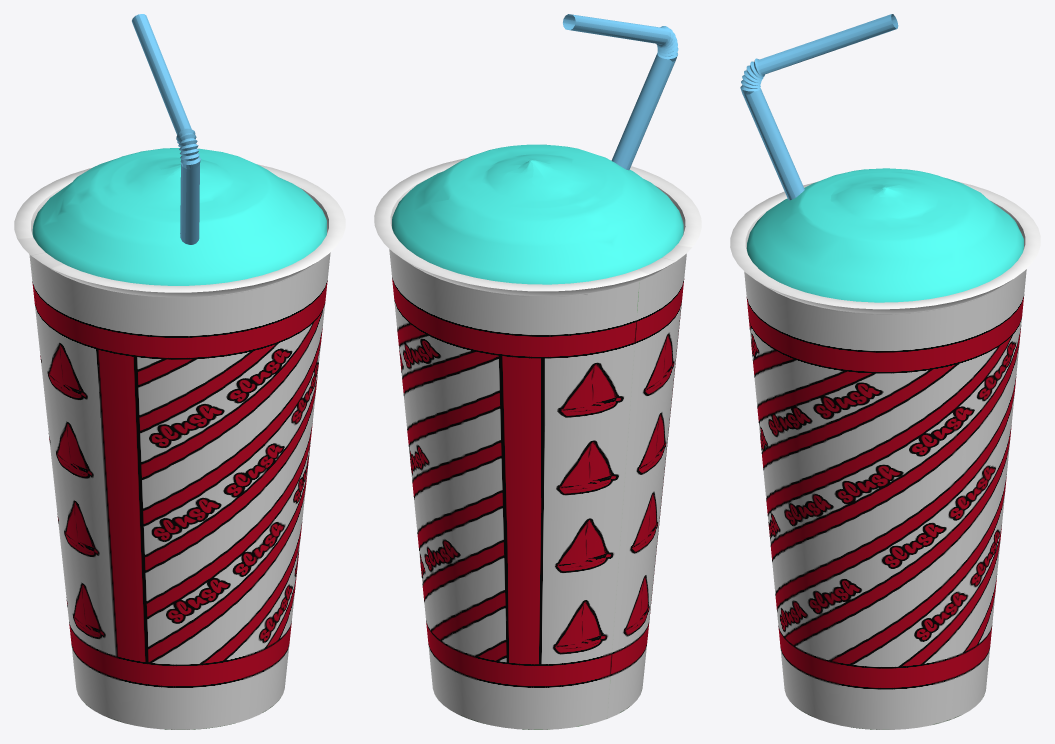
File: 슬러쉬 1.fbx
3 renders of one model, left to right at view 1: azimuth 30°, elevation 25°; view 2: azimuth 150°, elevation 25°; view 3: azimuth 270°, elevation 25°, orthographic. The views are drawn at different scales.
Parts seen in each view (by area): view 1: Cylinder002, Cylinder003, Cylinder004; view 2: Cylinder002, Cylinder003, Cylinder004; view 3: Cylinder002, Cylinder003, Cylinder004.
Boxes of the visible parts, x1,y1,x2,y2 form: Cylinder002: [14, 164, 345, 729]; Cylinder003: [32, 148, 326, 285]; Cylinder004: [132, 14, 200, 244]; Cylinder002: [374, 158, 701, 729]; Cylinder003: [392, 144, 683, 284]; Cylinder004: [563, 14, 678, 170]; Cylinder002: [730, 182, 1040, 729]; Cylinder003: [746, 168, 1023, 302]; Cylinder004: [740, 14, 898, 200].
Size of the model in its own units: 7.89 by 17.87 by 7.67.
Materials: 3 (1 with a texture image).
